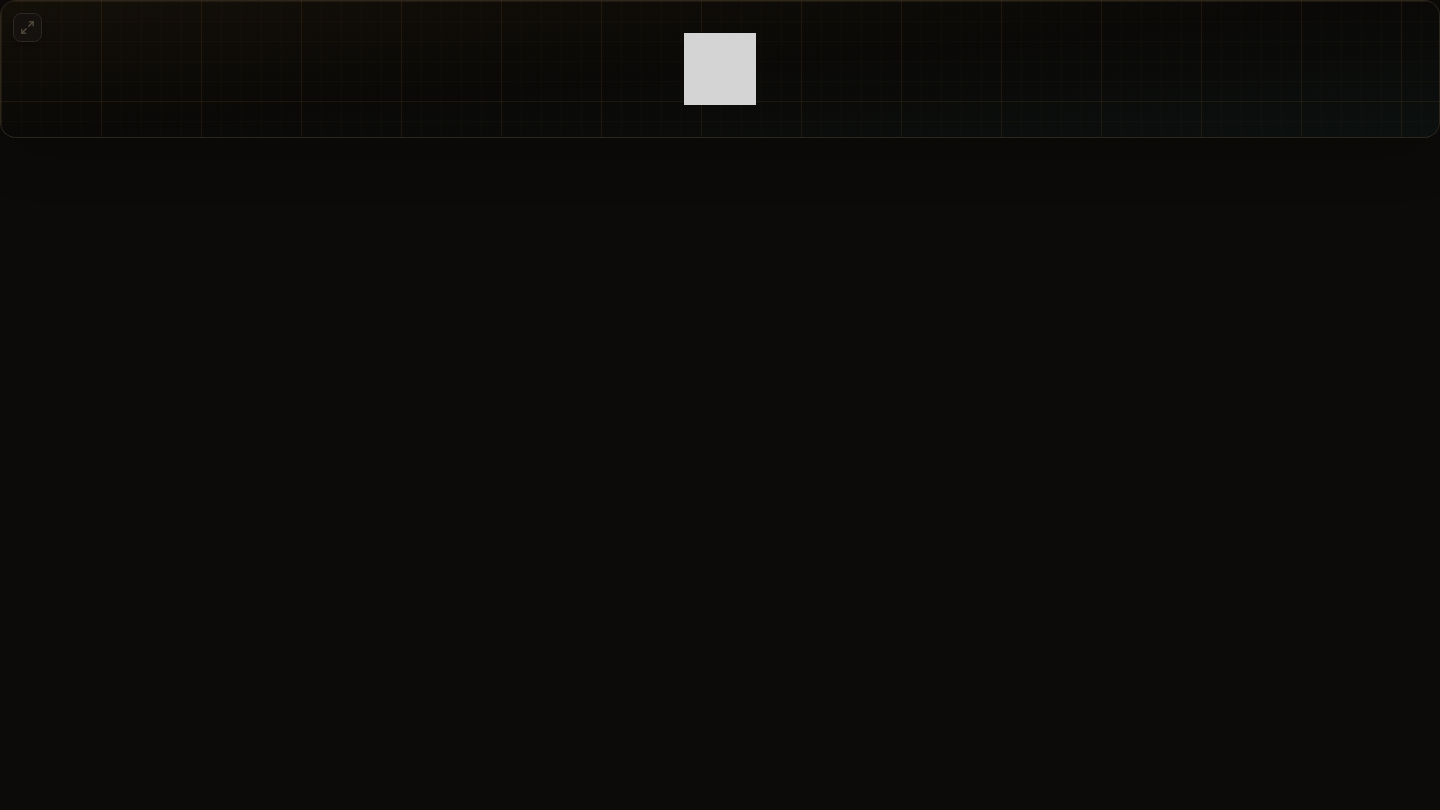
Scenario: PreviewCard (TikZ/Vorschau-Container) › öffnet und schließt die Lightbox bei Klick auf den Vollbild-Button
Click the button named "Vollbild & Zoom (Lightbox)".
click(28, 28)  # box [13,13,42,42]
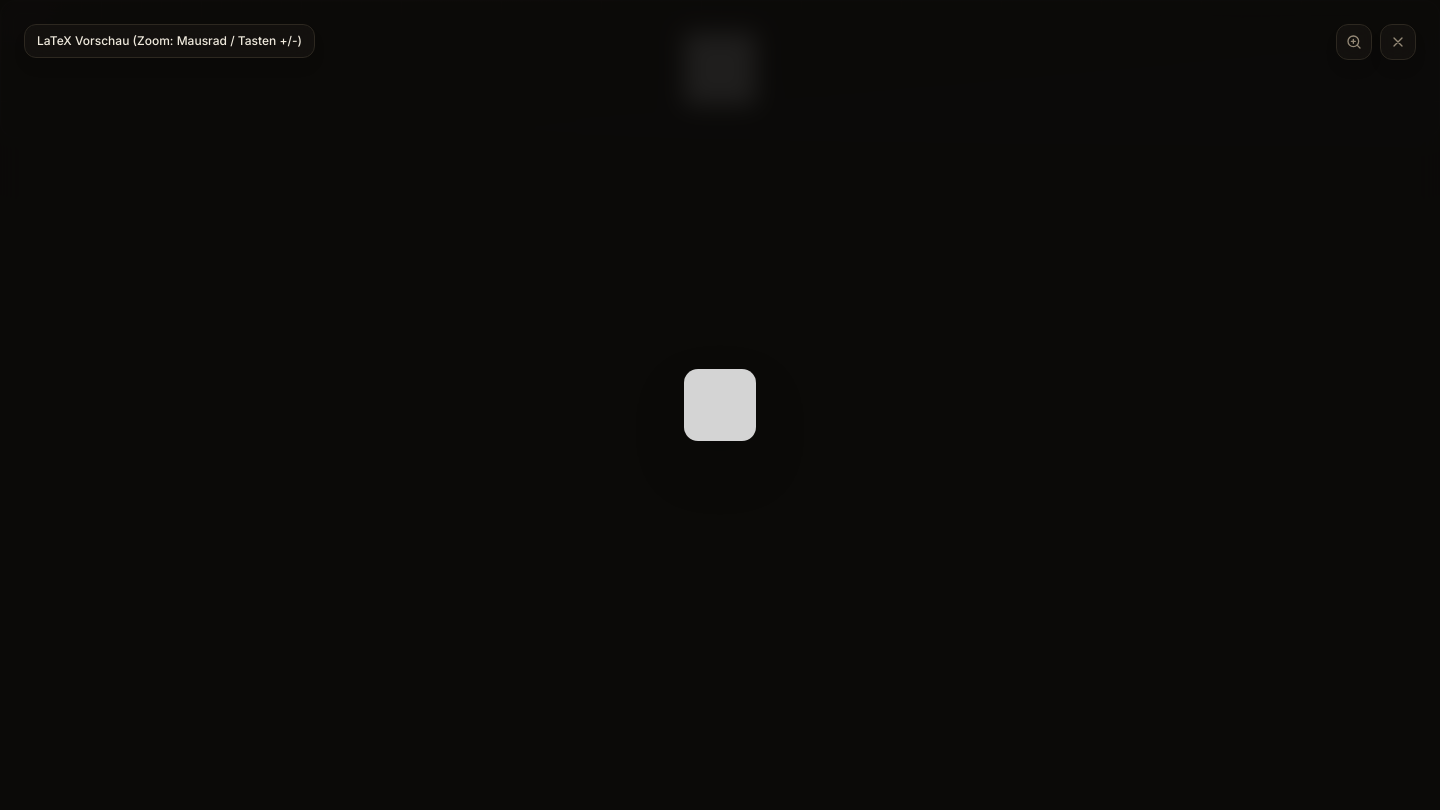
Expected: the dialog is shown
# Schließen via Schließen-Button
Click the button named "Schließen (Esc)".
click(1398, 42)  # box [1380,24,1416,60]
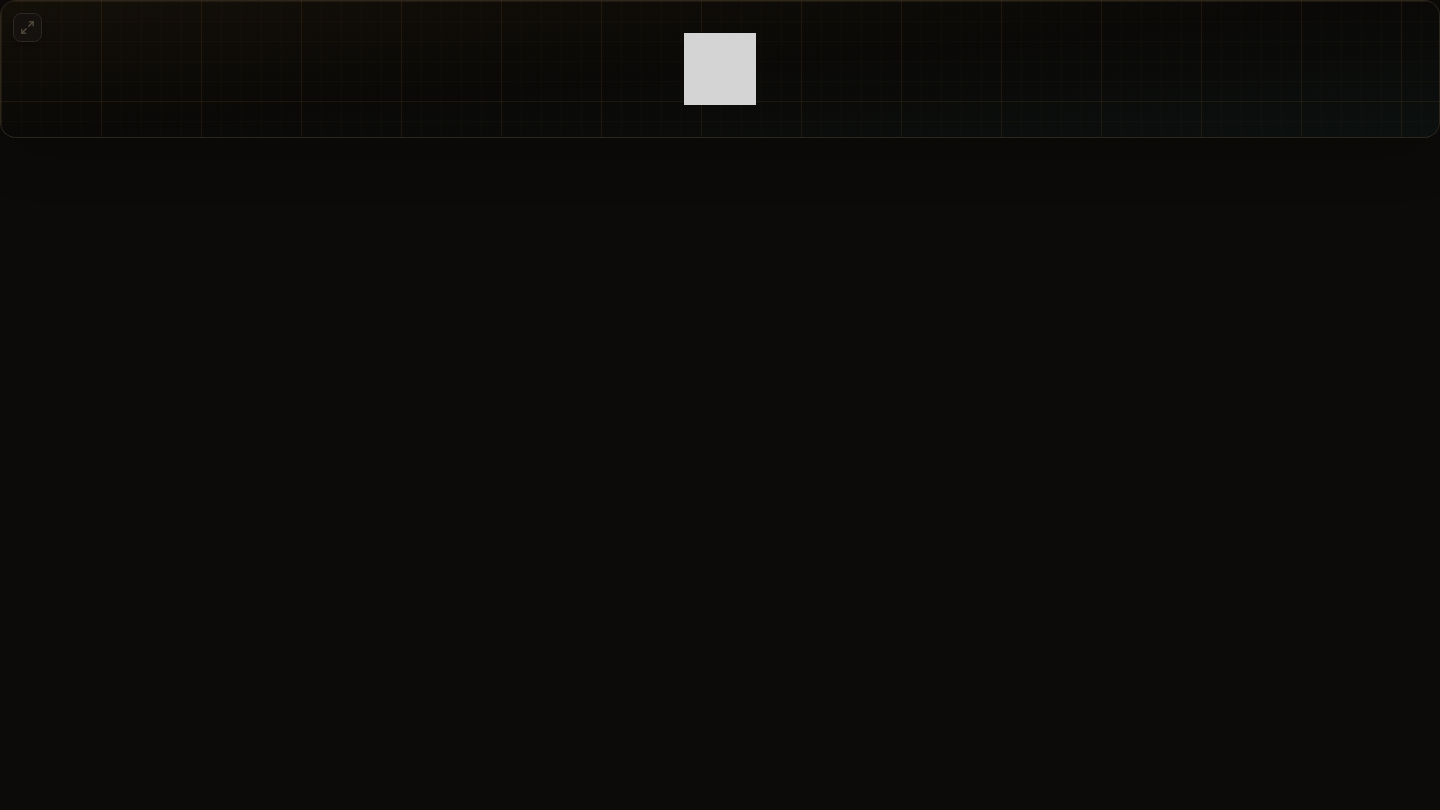
Expected: the dialog is gone
